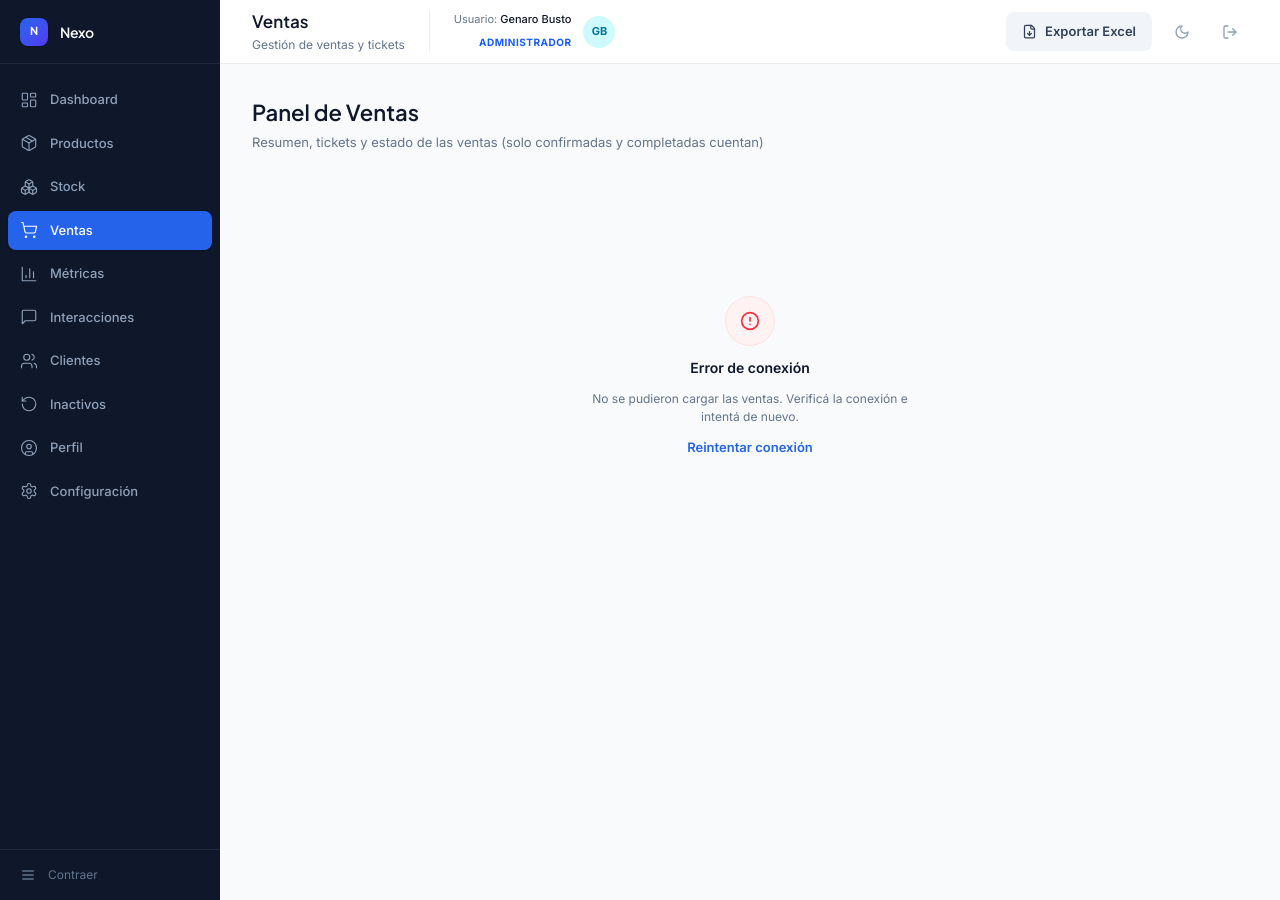
Test case: VentasPage › muestra error con reintento que vuelve a pedir los datos
expect the text "Error de conexión" is shown: met, box [690, 356, 810, 378]
Click the button "Reintentar conexión": (750, 447) [687, 438, 813, 457]
(page scrolled)
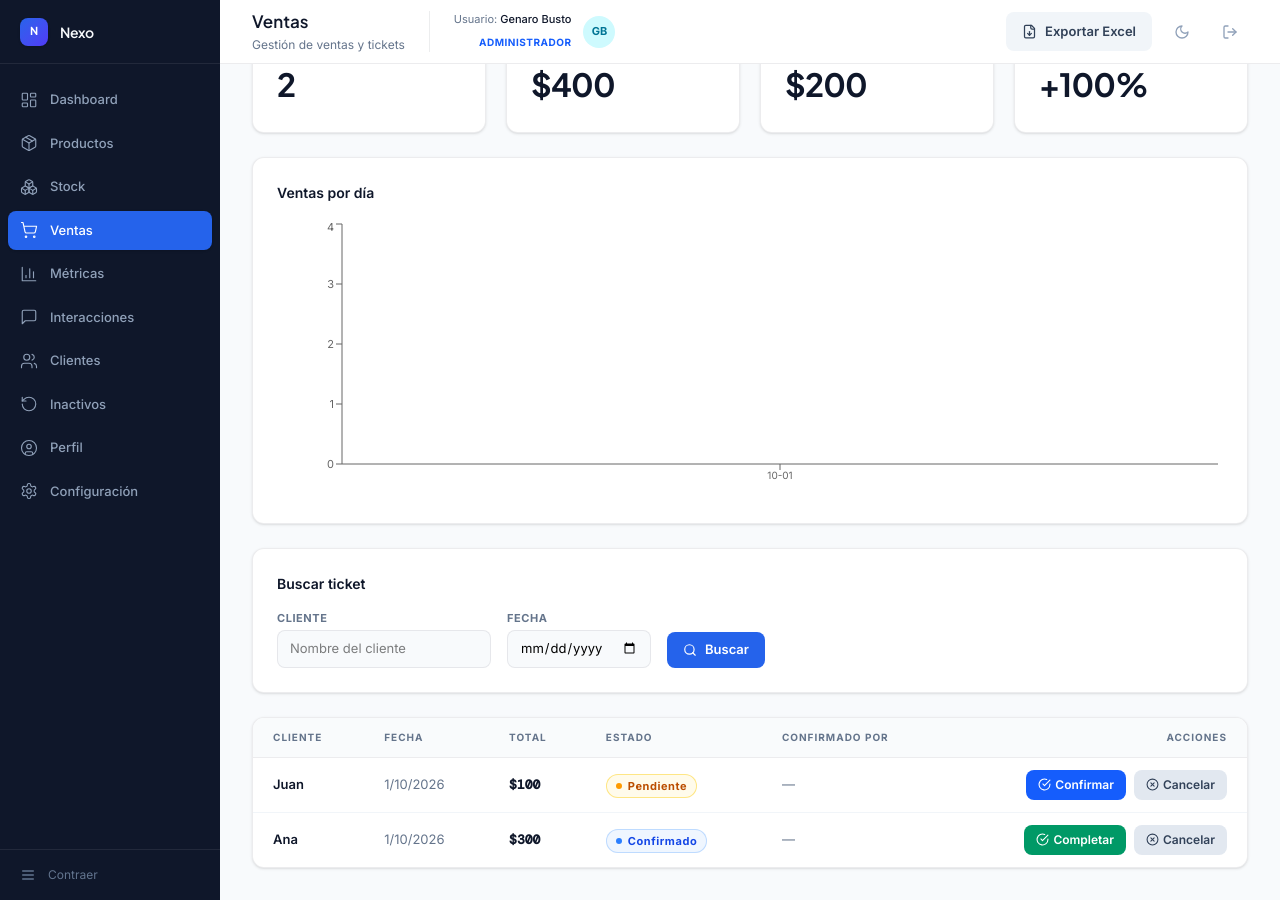
expect the text "Juan" is shown: met, box [253, 757, 364, 812]
